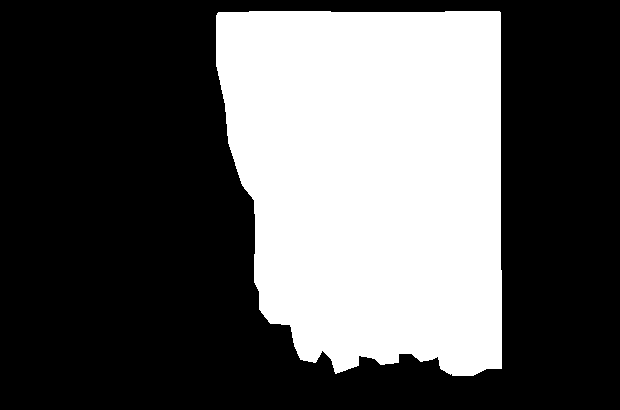type2: (211, 8, 505, 380)
